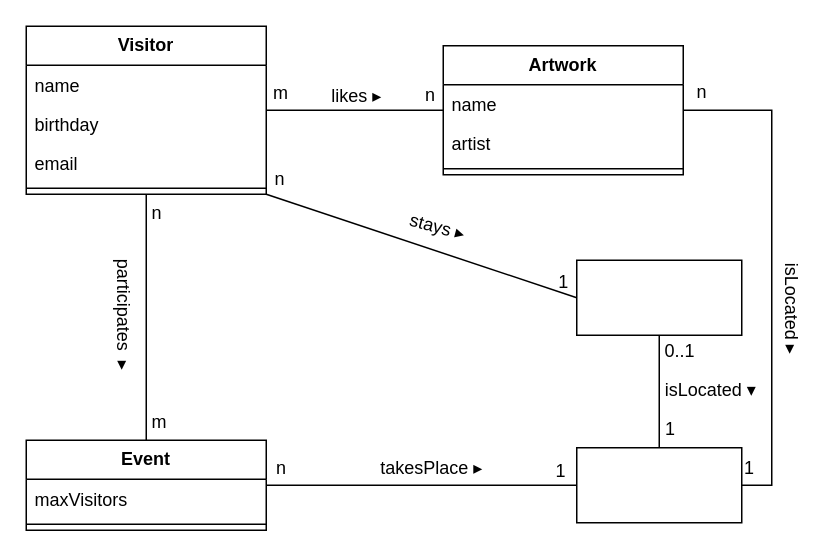
This 828x557 diagram has some shape labels left out. Here are the shapes that lost their labels. From the top down, the centre of each, then its label:
At (x=658, y=297): "Camp".
At (x=658, y=484): "Location".
